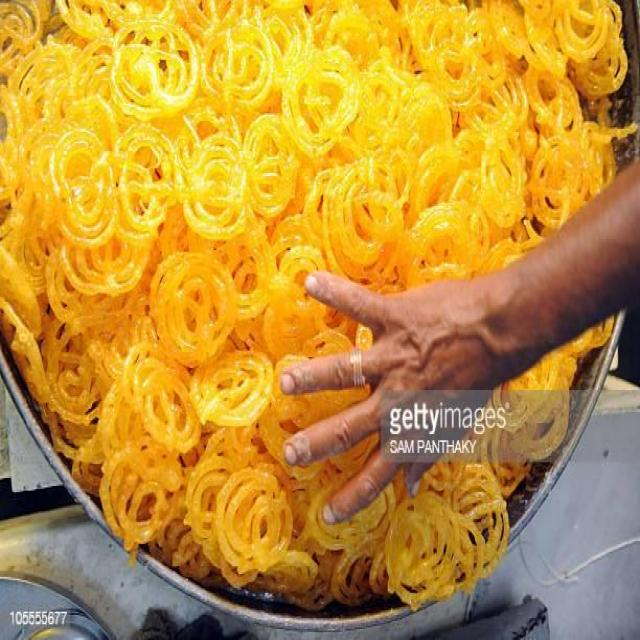jalebi: (6, 4, 640, 606)
